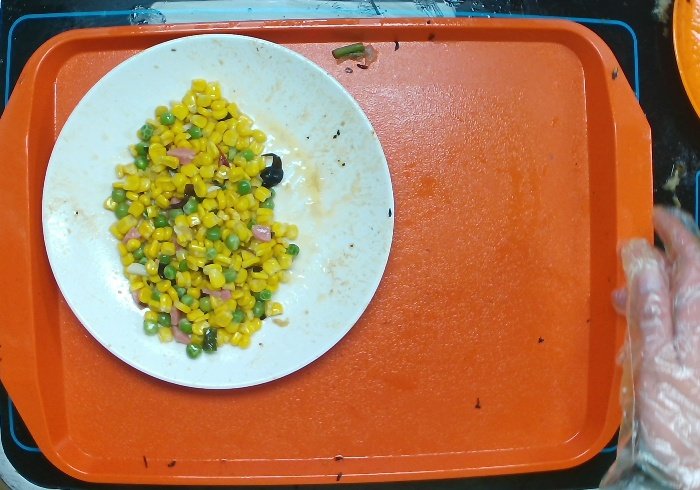HZYJPL-Bai_Se_Yuan_Pan: (39, 32, 396, 390)
